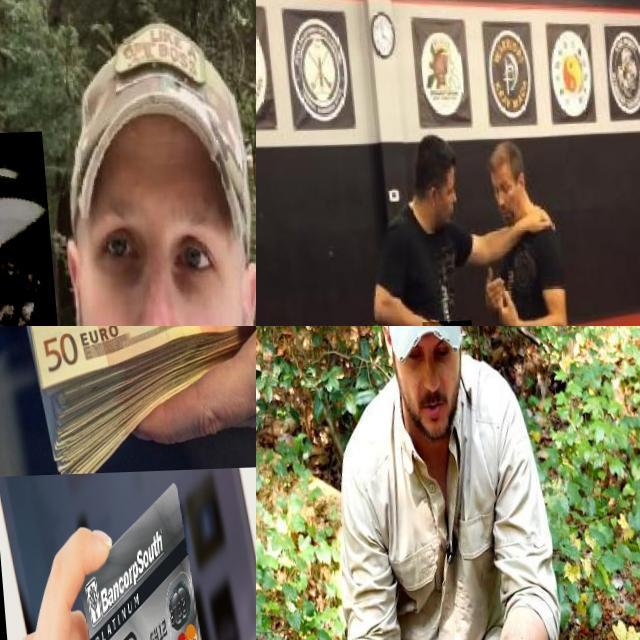-: (0, 134, 176, 326)
